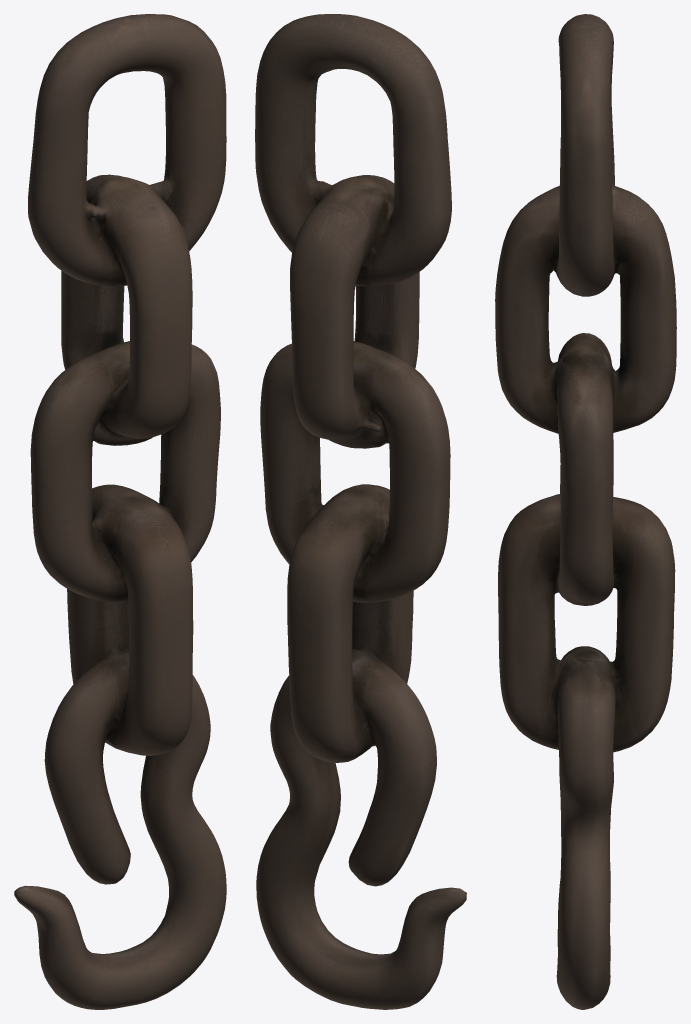
Rendered from iron_chains.glb.
The picture shows the model from 3 angles, left to right: view 1: azimuth 30°, elevation 25°; view 2: azimuth 150°, elevation 25°; view 3: azimuth 270°, elevation 25°; orthographic projection.
Size of the model in its own units: 0.4418 by 2 by 0.3403.
1 material, 1 textured.
